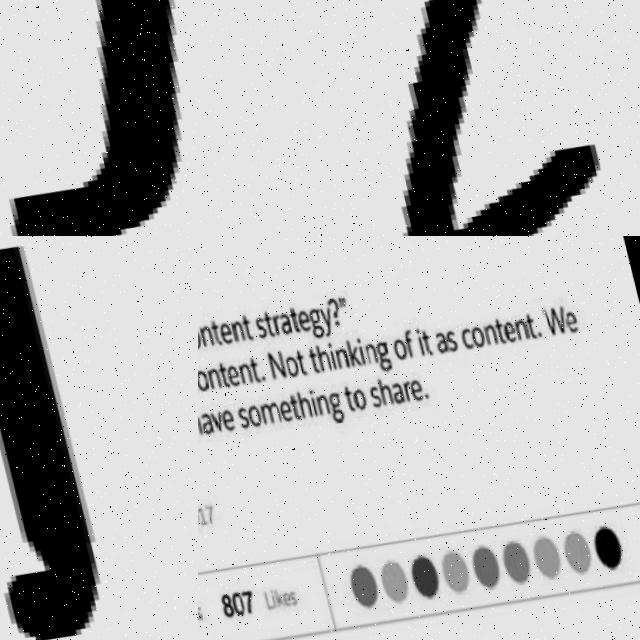0: (224, 589, 241, 616)
1: (198, 502, 203, 525)
7: (234, 587, 251, 613), (198, 502, 211, 522)
8: (211, 588, 231, 617)
J: (0, 236, 121, 640), (0, 0, 198, 236)
L: (308, 0, 612, 236)
